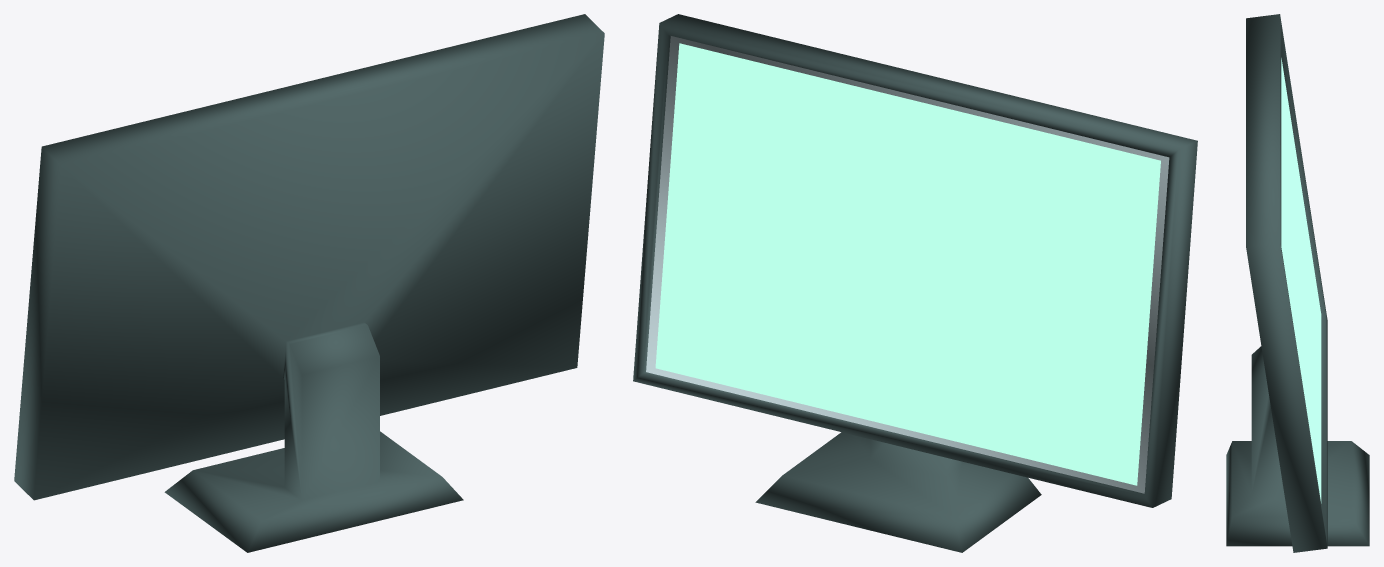
File: ecran.glb
The picture shows the model from 3 angles, left to right: view 1: azimuth 30°, elevation 25°; view 2: azimuth 150°, elevation 25°; view 3: azimuth 270°, elevation 25°; orthographic projection. The views are drawn at different scales.
Parts seen in each view (by area): view 1: Ecran; view 2: Affichage, Ecran; view 3: Ecran, Affichage.
Boxes of the visible parts, left/top/right/bottom form: Ecran: left=14, top=14, right=604, bottom=552; Affichage: left=655, top=43, right=1160, bottom=485; Ecran: left=633, top=14, right=1197, bottom=552; Ecran: left=1226, top=14, right=1369, bottom=552; Affichage: left=1281, top=58, right=1321, bottom=503.
Size of the model in its own units: 0.7 by 0.5246 by 0.1854.
